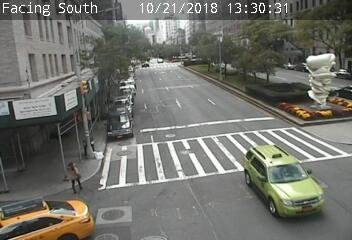car: (244, 145, 322, 218)
